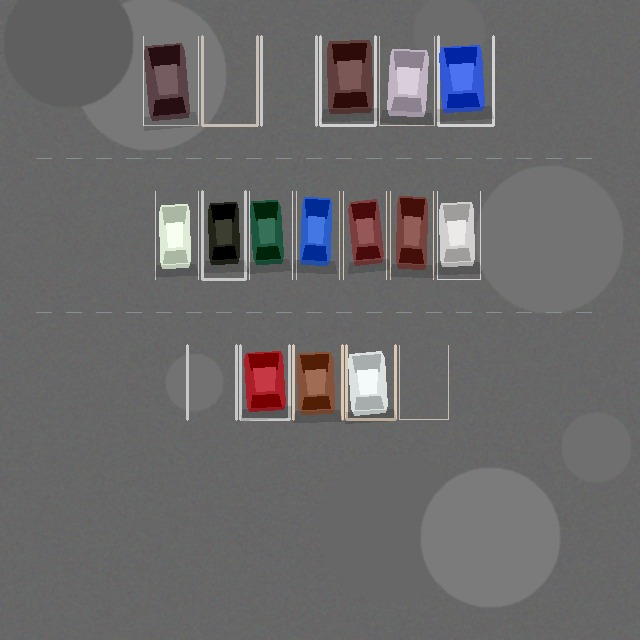space-empty: (202, 36, 257, 125), (261, 36, 316, 125), (187, 345, 236, 419), (399, 345, 448, 419)
space-occupied: (143, 36, 198, 125), (320, 36, 375, 125), (379, 36, 434, 125), (438, 36, 493, 125), (155, 191, 198, 279), (202, 191, 245, 279), (249, 191, 292, 279), (296, 191, 339, 279), (343, 191, 386, 279), (390, 191, 433, 279), (437, 191, 480, 279), (240, 345, 289, 419), (293, 345, 342, 419), (346, 345, 395, 419)
